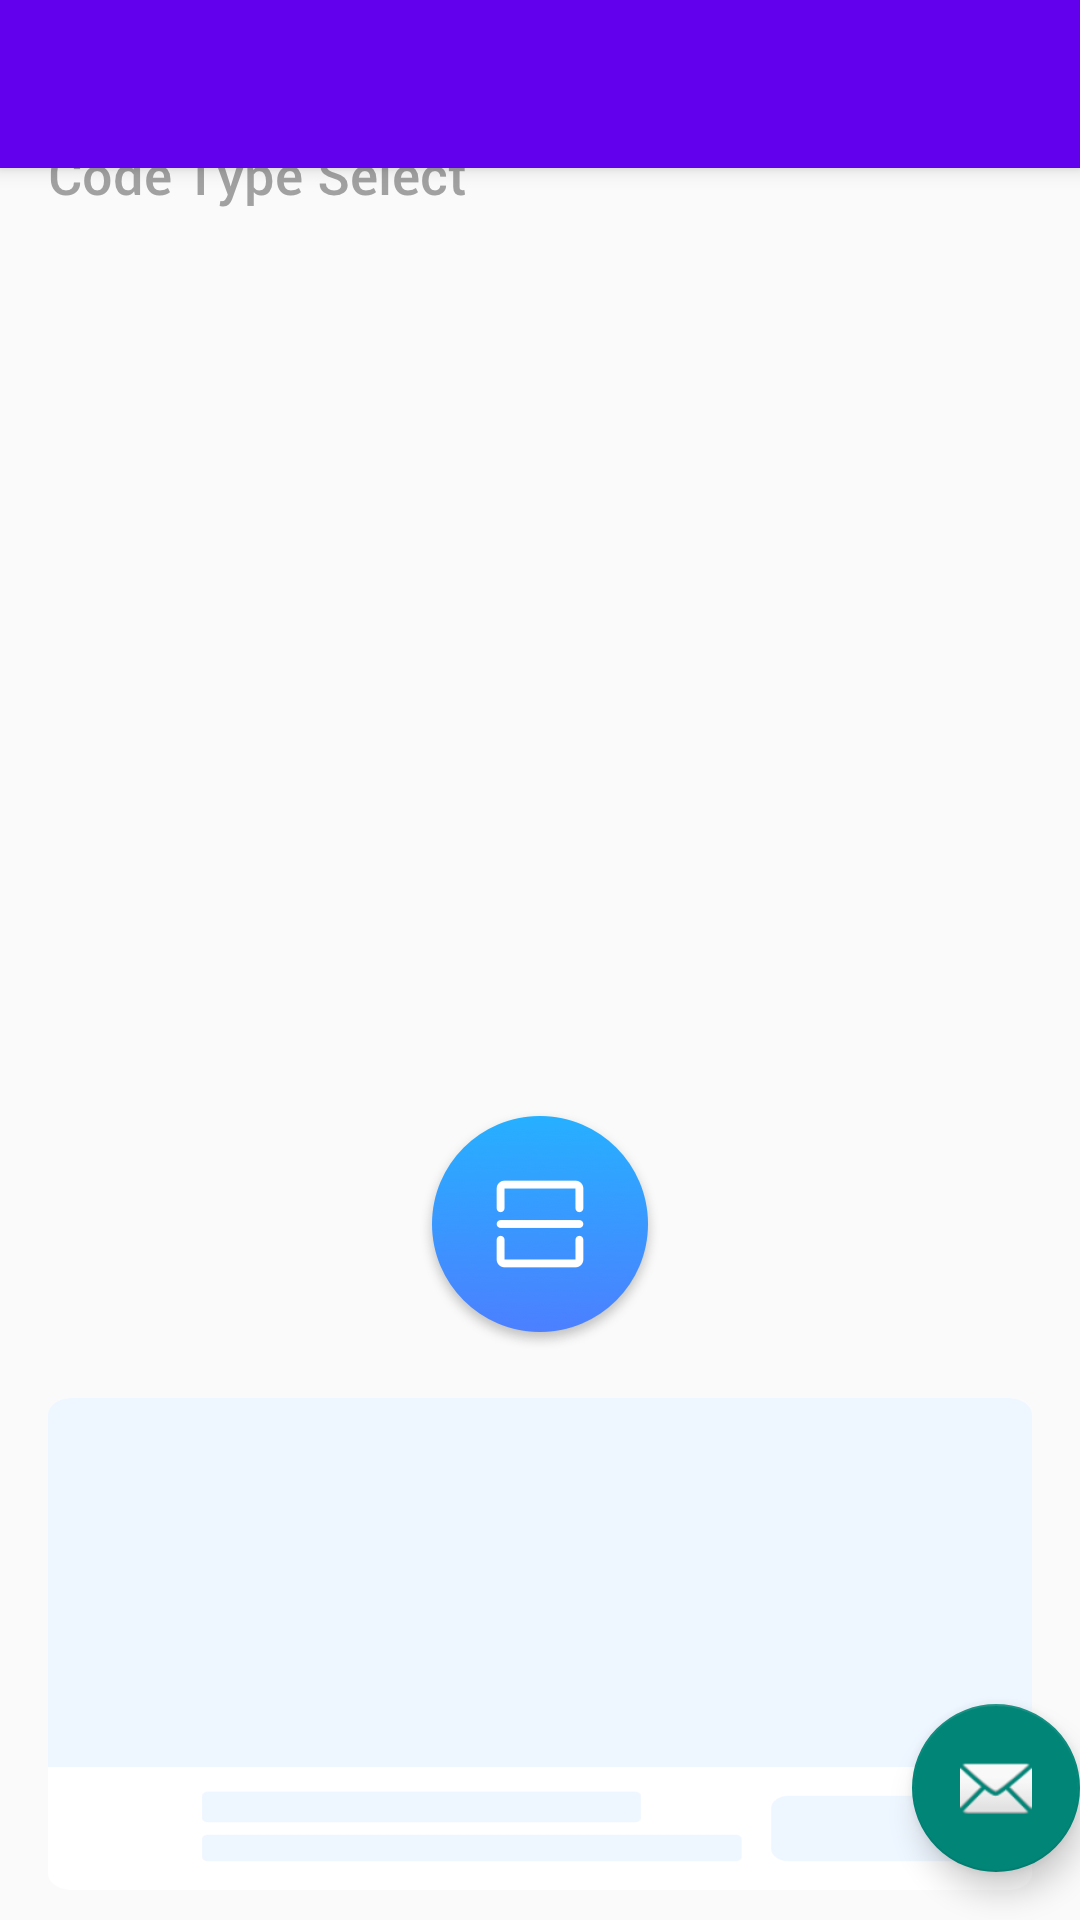

Named icons in this screenshot (1080 × 1920) and their centers, point (x, y):
home scan: point (540, 1227)
